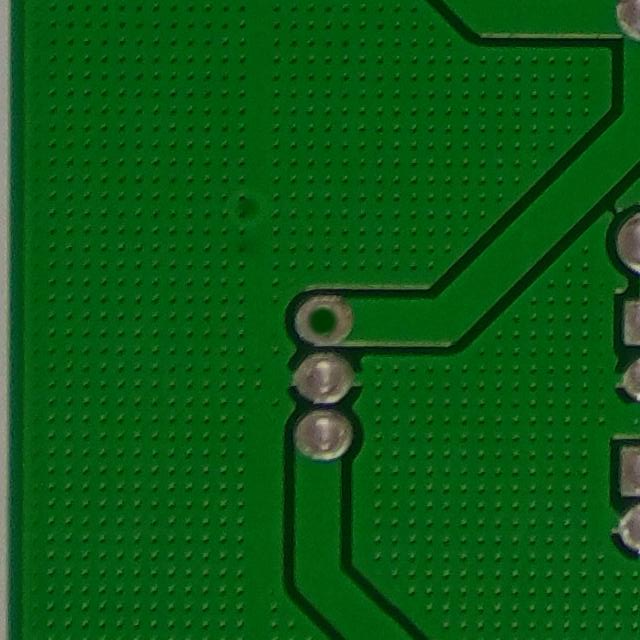missing_hole: (287, 282, 354, 359)
